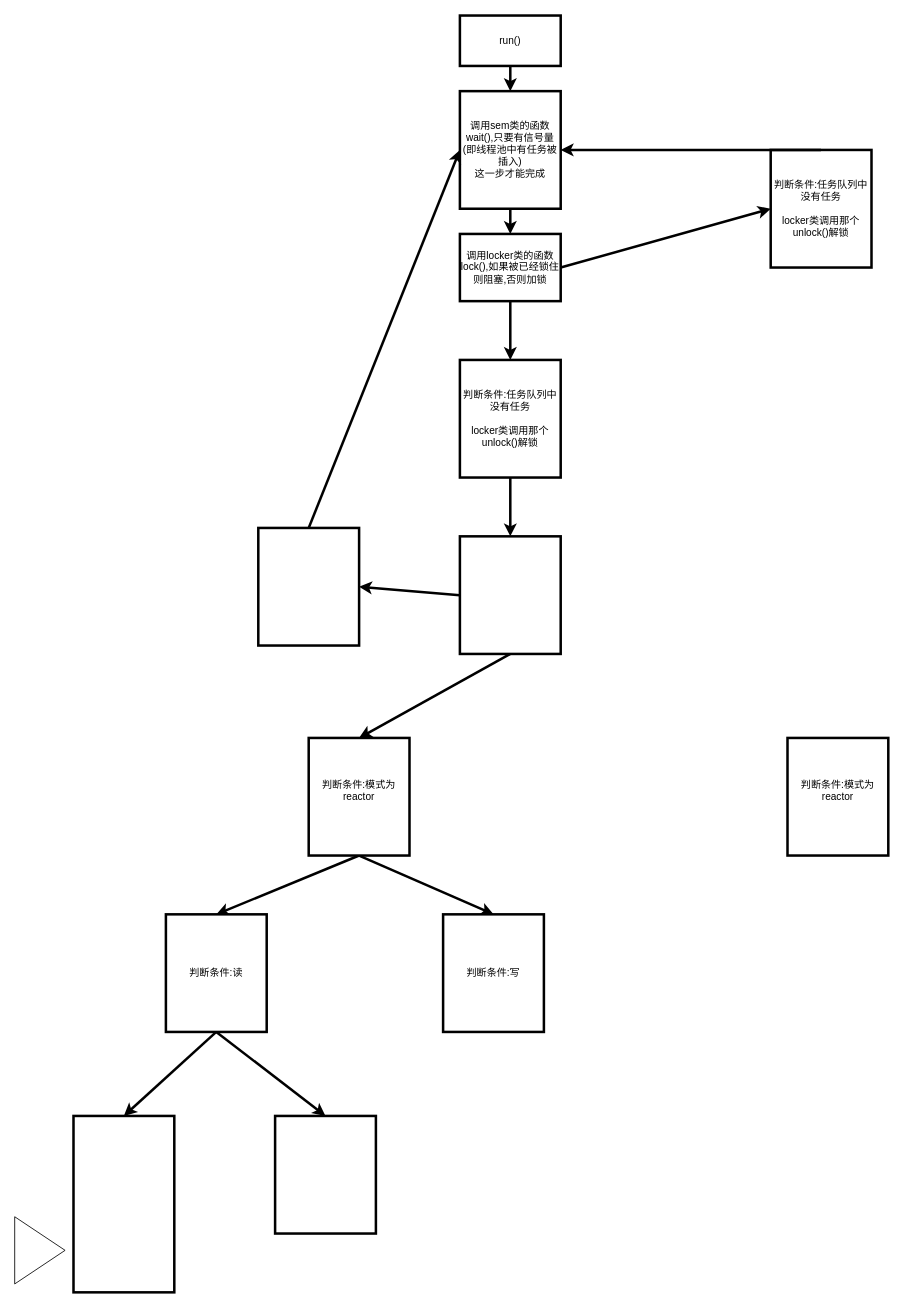
Image size: 904x1308. Some labels were removed from this diagram. Each missing label, with the centre of its shape:
判断条件:成功读取数据,根据read_once()返回值 设置变量:已被处理 将请求的数据库连接放进连接池 调用process()处理该任务: (x=123, y=1203)
判断条件:未能成功读取数据,根据read_once()返回值 设置变量:已被处理 处理结果失败: (x=325, y=1174)
判断条件:该事件为空: (x=308, y=586)
用模板request获取队列中的第一个事件,然后用pop_front()函数出列 解锁: (x=510, y=595)
